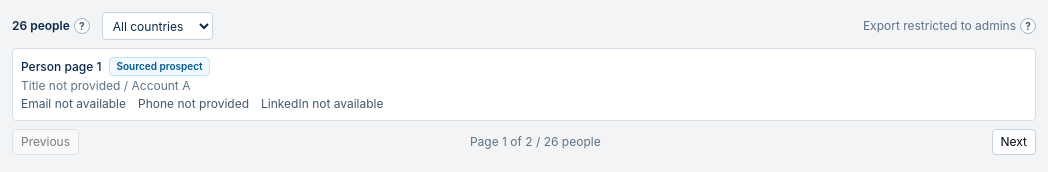
Scenario: filters contact country and resets to the first page without starting sourcing
The width and height of the screenshot is (1048, 172).
Click the button "Next" at (1014, 142), box [992,129,1036,155]
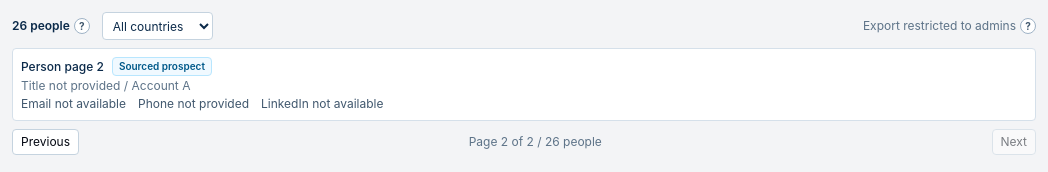
Select "India" in the dropdown named "Filter sourced contact country" at (157, 26), box [102,12,213,40]
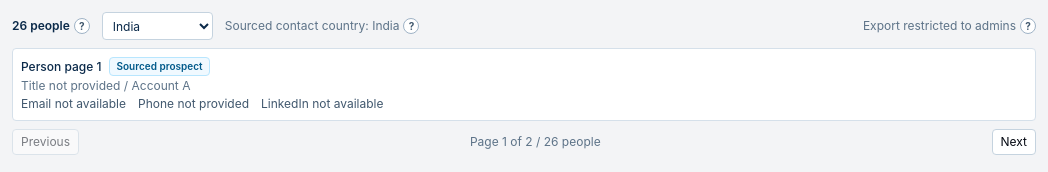
Check: the text "Sourced contact country: India ?" is shown, box [225,18,420,34]
